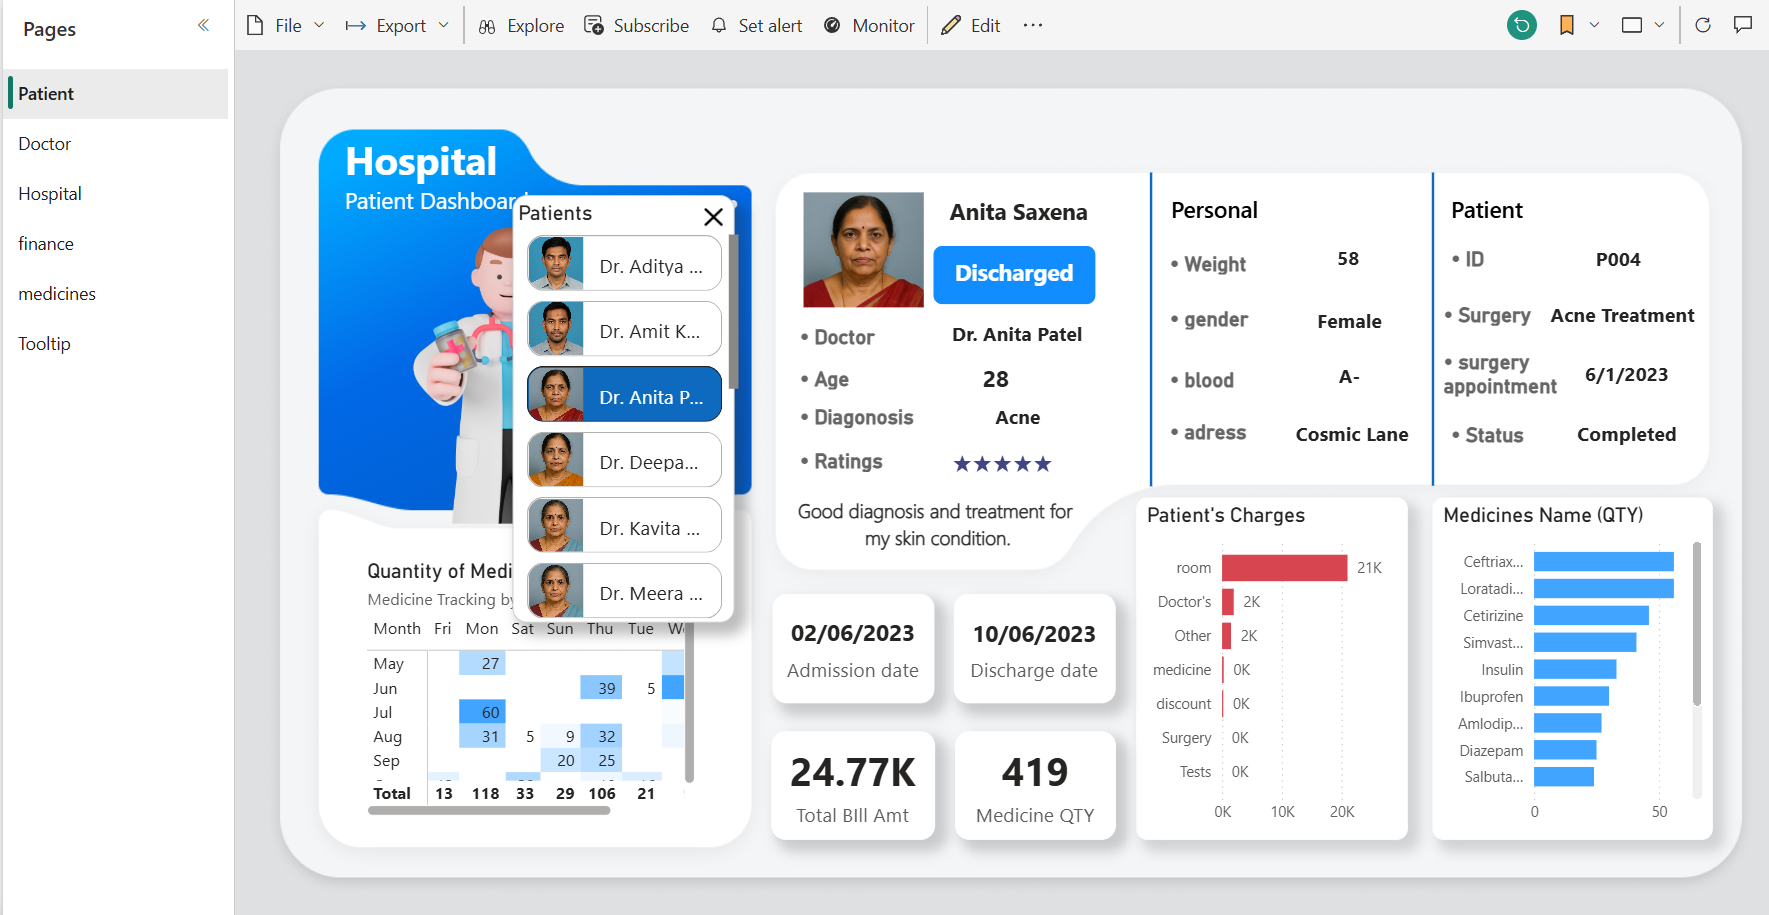

What the dashboard file says about the page in this screenshot:
{"tool":"powerbi","page":{"name":"Patient","canvas":[1280,720],"ordinal":0},"visuals":[{"type":"image","box":[85.3,122.6,280.8,268.4],"z":0},{"type":"textbox","box":[85.3,64,335.6,98.1],"z":1000},{"type":"image","box":[374,123.7,46.9,32.7],"z":2000},{"type":"pivotTable","title":"Quantity of Medicines","fields":{"Columns":["Calendar.Day"],"Rows":["Calendar.Month"],"Values":["Sum(medicine - patient.qty)"]},"box":[104.2,420,280,216.8],"z":3000},{"type":"clusteredBarChart","title":"Patient''s Charges","fields":{"Category":["bill.chargestype"],"Y":["Sum(bill.Value)"]},"box":[743.2,369.5,224.2,282.1],"z":4000},{"type":"clusteredBarChart","title":"Medicines Name (QTY)","fields":{"Category":["medical_stock_infoo.name"],"Y":["Sum(medicine - patient.qty)"]},"box":[987.4,369.5,231.6,282.1],"z":5000},{"type":"card","fields":{"Values":["_measures.total_bill_amount"]},"box":[442.7,561.8,135,89.3],"z":6000},{"type":"card","fields":{"Values":["_measures.total_med_sale_qty"]},"box":[593.6,561.8,133,89.3],"z":7000},{"type":"card","fields":{"Values":["Min(patient_detailss.patient_admission_date)"]},"box":[443.2,448.4,133.7,90],"z":8000},{"type":"card","fields":{"Values":["Min(patient_detailss.patient_discharge_date)"]},"box":[592.6,448.4,133.7,90.5],"z":9000},{"type":"cardVisual","fields":{"Data":["Min(patient_detailss.patient_Img)"]},"box":[443.2,16.8,150.5,201.1],"z":10000},{"type":"card","fields":{"Values":["Min(patient_detailss.patient_name)"]},"box":[563.2,110.5,167.4,49.5],"z":11000},{"type":"card","fields":{"Values":["Min(patient_detailss.patient_status)"]},"box":[575.7,160.8,135,49.6],"z":12000},{"type":"shape","title":"• Doctor ","box":[466,226.5,109.6,20.2],"z":13000},{"type":"shape","title":"• Age","box":[466,261.1,93.8,28.9],"z":14000},{"type":"shape","title":"• Diagonosis","box":[466,292.9,131.3,36.1],"z":15000},{"type":"card","fields":{"Values":["Min(patient_detailss.doctor_name)"]},"box":[569.5,222.1,152.6,27.4],"z":16000},{"type":"card","fields":{"Values":["Min(patient_detailss.patient_age)"]},"box":[559.8,255.4,135.6,34.6],"z":17000},{"type":"card","fields":{"Values":["Min(appointment (2).diagnosis)"]},"box":[570.5,287.4,151.6,34.7],"z":18000},{"type":"card","fields":{"Values":["_measures.Count of satisfaction_rating star rating"]},"box":[577.2,328.3,112,26.1],"z":19000},{"type":"shape","title":"• Ratings","box":[466,328.9,103.9,20.2],"z":20000},{"type":"card","fields":{"Values":["Min(patient_detailss.satisfaction_feedback)"]},"box":[457.9,349.5,240,82.1],"z":21000},{"type":"shape","box":[743.3,101.1,24.4,258.9],"z":22000},{"type":"shape","box":[977.1,101.4,21.4,258.6],"z":23000},{"type":"textbox","title":"Personal","box":[767.1,118.6,105.7,21.4],"z":24000},{"type":"textbox","title":"Patient","box":[998.6,118.6,104.3,21.4],"z":25000},{"type":"shape","title":"• Weight","box":[771.4,165.7,108.6,20],"z":26000},{"type":"shape","title":"• gender","box":[771.4,211.4,92.9,28.6],"z":27000},{"type":"shape","title":"• blood","box":[771.4,261.4,131.4,37.1],"z":28000},{"type":"card","fields":{"Values":["Min(patient_detailss.patient_weight)"]},"box":[848.6,157.1,140,34.3],"z":29000},{"type":"card","fields":{"Values":["Min(patient_detailss.patient_gender)"]},"box":[851.4,208.6,135.7,34.3],"z":30000},{"type":"shape","title":"• adress","box":[771.4,305.7,102.9,20],"z":31000},{"type":"shape","title":"•  surgery appointment","box":[997.1,247.1,110,42.9],"z":32000},{"type":"shape","title":"• Surgery","box":[997.1,208.6,94.3,28.6],"z":33000},{"type":"shape","title":"• ID","box":[1002.9,161.4,48.6,35.7],"z":34000},{"type":"card","fields":{"Values":["Min(bill.patient_id)"]},"box":[1071.7,159.8,140.2,27.2],"z":35000},{"type":"shape","title":"• Status","box":[1002.9,307.1,68.6,21.4],"z":36000},{"type":"card","fields":{"Values":["Min(patient_detailss.patient_blood_group)"]},"box":[851.4,255.7,135.7,24.3],"z":37000},{"type":"card","fields":{"Values":["Min(patient_detailss.patient_address)"]},"box":[851.4,302.9,135.7,25.7],"z":38000},{"type":"card","fields":{"Values":["Min(patient_detailss.surgery_reason)"]},"box":[1078.9,204.2,132.6,32.6],"z":39000},{"type":"card","fields":{"Values":["Min(patient_detailss.surgery_appointment_date)"]},"box":[1078.6,247.1,140,44.3],"z":40000},{"type":"card","fields":{"Values":["Min(patient_detailss.surgery_status)"]},"box":[1078.6,304.3,140,27.1],"z":41000}]}

Visuals, with their boxes on the page's 1280x720 design canvas (x1, y1, x2, y2). These are canvas units, not pixel positions in the 1769x915 screenshot, which may show the page scaled, cropped or inside an application window:
image: [85,123,366,391]
textbox: [85,64,421,162]
image: [374,124,421,156]
"Quantity of Medicines" pivotTable: [104,420,384,637]
"Patient''s Charges" clusteredBarChart: [743,370,967,652]
"Medicines Name (QTY)" clusteredBarChart: [987,370,1219,652]
card - _measures.total_bill_amount: [443,562,578,651]
card - _measures.total_med_sale_qty: [594,562,727,651]
card - Min(patient_detailss.patient_admission_date): [443,448,577,538]
card - Min(patient_detailss.patient_discharge_date): [593,448,726,539]
cardVisual - Min(patient_detailss.patient_Img): [443,17,594,218]
card - Min(patient_detailss.patient_name): [563,110,731,160]
card - Min(patient_detailss.patient_status): [576,161,711,210]
"• Doctor " shape: [466,226,576,247]
"• Age" shape: [466,261,560,290]
"• Diagonosis" shape: [466,293,597,329]
card - Min(patient_detailss.doctor_name): [570,222,722,250]
card - Min(patient_detailss.patient_age): [560,255,695,290]
card - Min(appointment (2).diagnosis): [570,287,722,322]
card - _measures.Count of satisfaction_rating star rating: [577,328,689,354]
"• Ratings" shape: [466,329,570,349]
card - Min(patient_detailss.satisfaction_feedback): [458,350,698,432]
shape: [743,101,768,360]
shape: [977,101,998,360]
"Personal" textbox: [767,119,873,140]
"Patient" textbox: [999,119,1103,140]
"• Weight" shape: [771,166,880,186]
"• gender" shape: [771,211,864,240]
"• blood" shape: [771,261,903,298]
card - Min(patient_detailss.patient_weight): [849,157,989,191]
card - Min(patient_detailss.patient_gender): [851,209,987,243]
"• adress" shape: [771,306,874,326]
"•  surgery appointment" shape: [997,247,1107,290]
"• Surgery" shape: [997,209,1091,237]
"• ID" shape: [1003,161,1052,197]
card - Min(bill.patient_id): [1072,160,1212,187]
"• Status" shape: [1003,307,1072,328]
card - Min(patient_detailss.patient_blood_group): [851,256,987,280]
card - Min(patient_detailss.patient_address): [851,303,987,329]
card - Min(patient_detailss.surgery_reason): [1079,204,1212,237]
card - Min(patient_detailss.surgery_appointment_date): [1079,247,1219,291]
card - Min(patient_detailss.surgery_status): [1079,304,1219,331]
